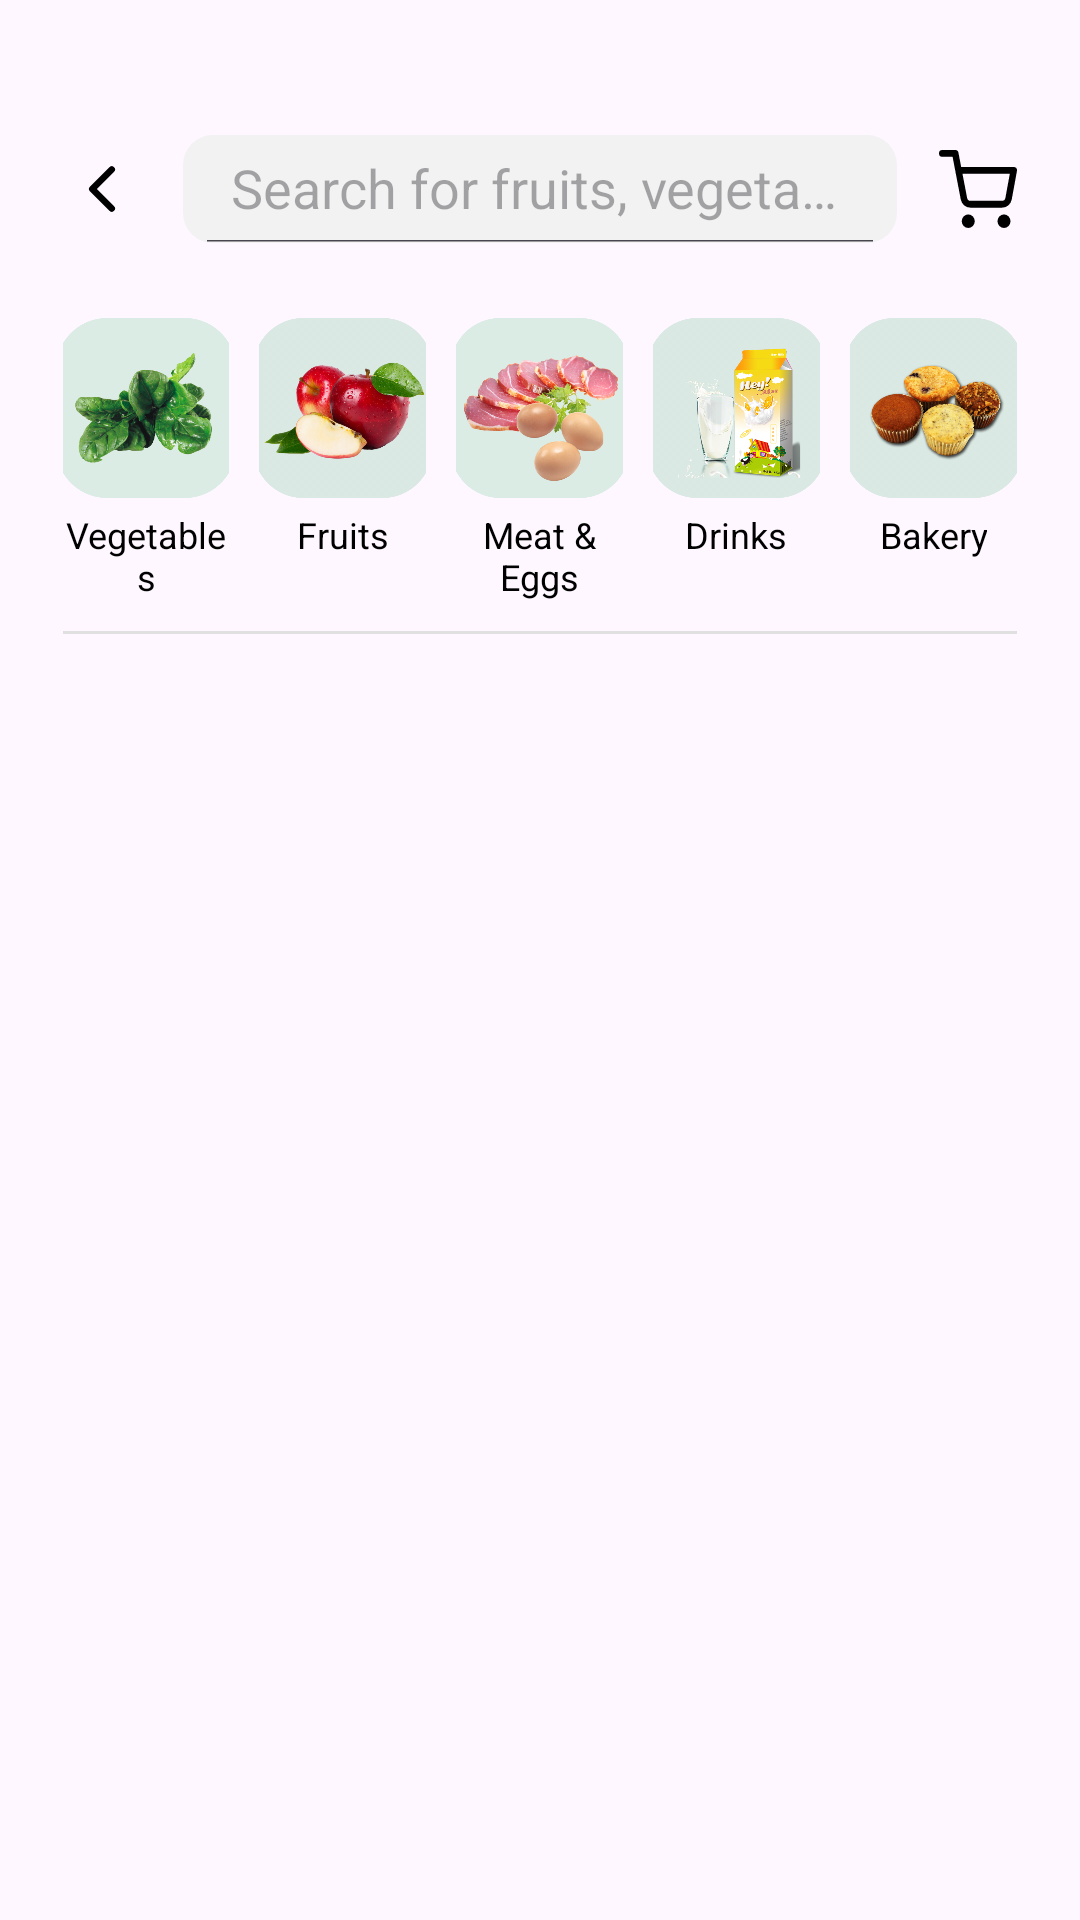

Icon click points for this 1080×1920 phone screenshot, format point (x, y):
back arrow: point (102, 189)
carticon: point (978, 189)
